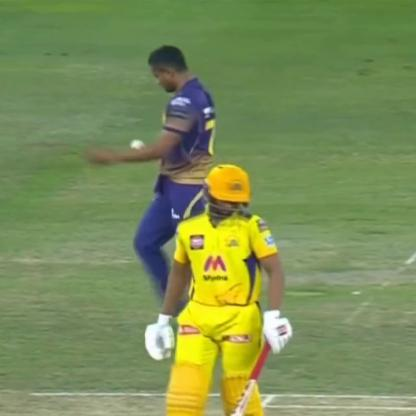ball: (126, 140, 148, 152)
